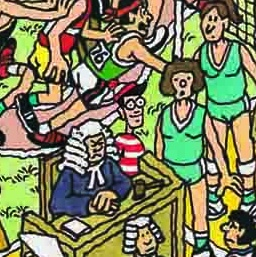waldo: (108, 77, 148, 180), (108, 79, 149, 130)
